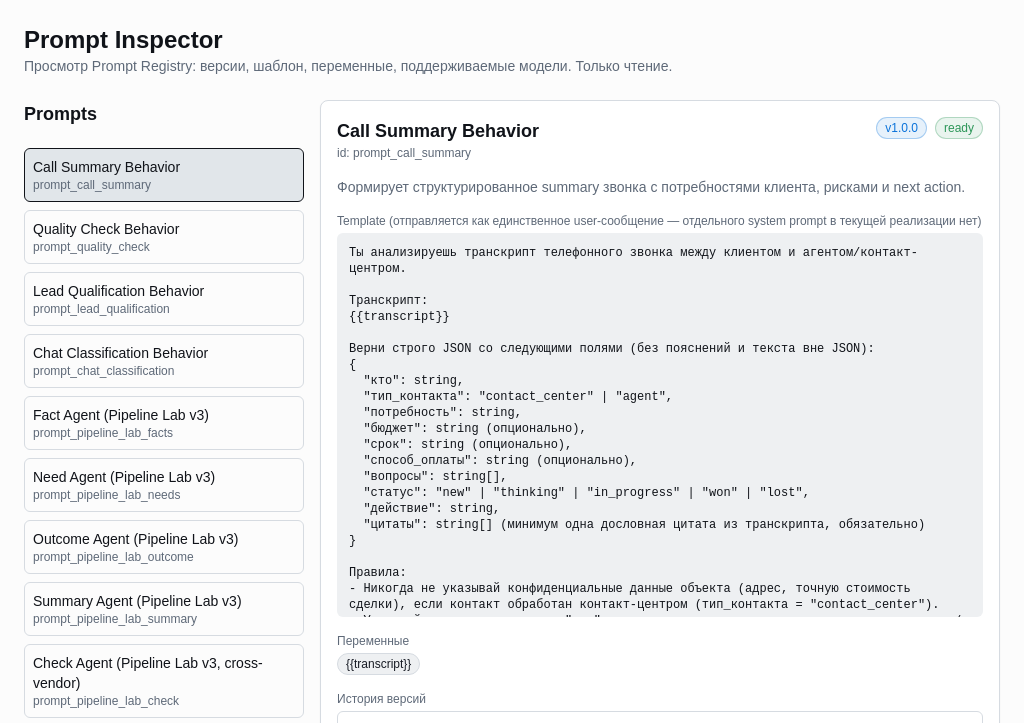
Scenario: PromptInspectorScreen › switches the detail panel when a different prompt is selected
Click the text "prompt_lead_qualification". click: (101, 309)
box: [33,302,170,316]
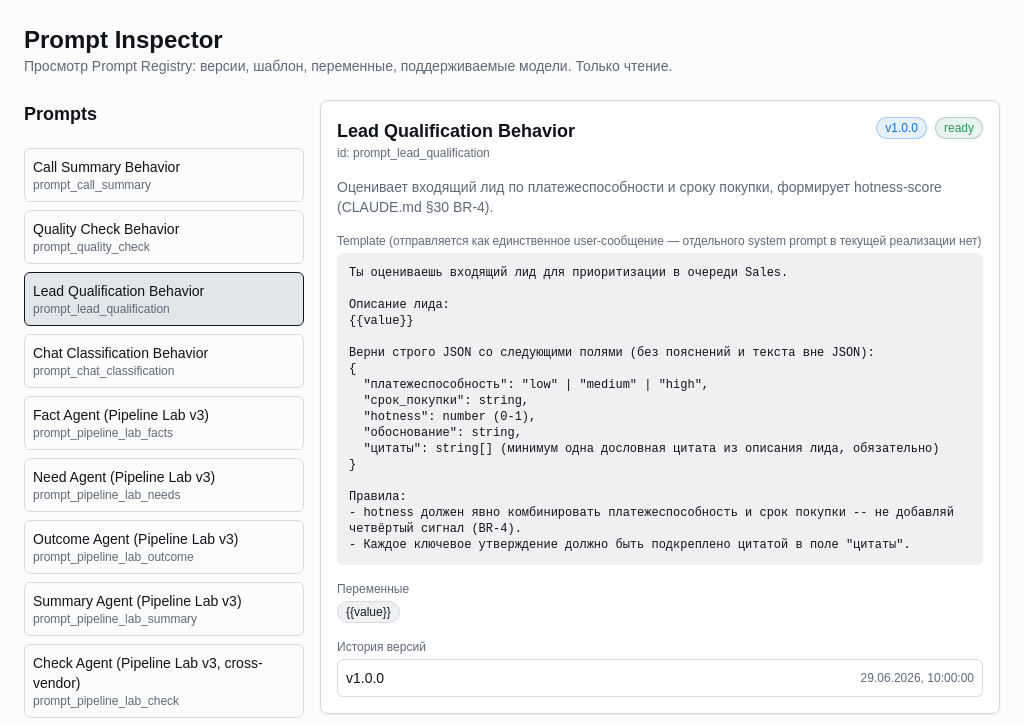
expect the text "оцениваешь входящий лид" is shown: met, box [349,266,961,552]
